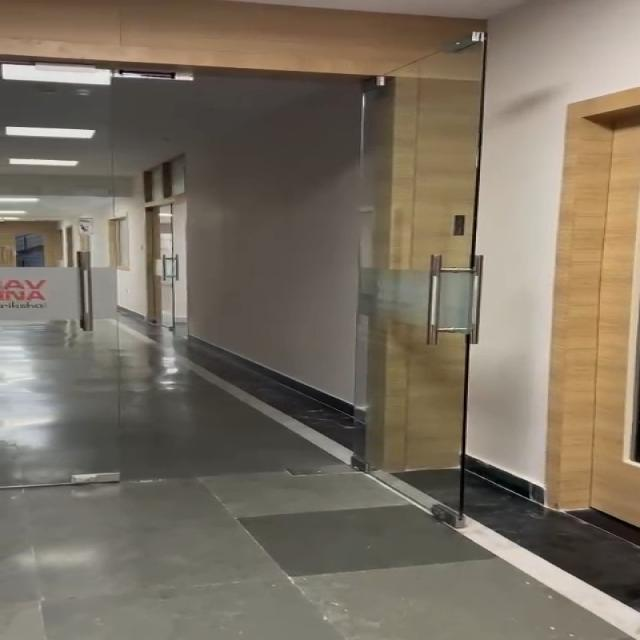door: (17, 33, 494, 470), (571, 118, 640, 530)
floor: (0, 498, 614, 640)
